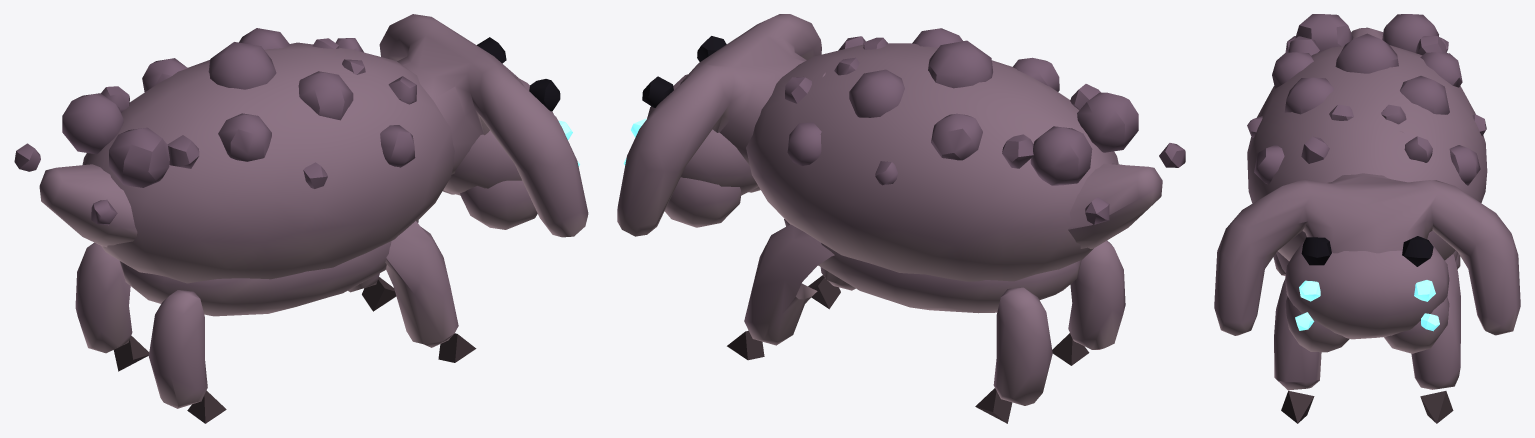
Rendered from squonk.glb.
3 renders of one model, left to right at view 1: azimuth 30°, elevation 25°; view 2: azimuth 150°, elevation 25°; view 3: azimuth 270°, elevation 25°, orthographic. The views are drawn at different scales.
Parts seen in each view (by area): view 1: squonk.001; view 2: squonk.001; view 3: squonk.001.
Part boxes in pixels (x1,y1,x2,y2): squonk.001: (14, 14, 588, 423); squonk.001: (617, 14, 1185, 423); squonk.001: (1214, 14, 1520, 423).
Bounding box in the file's own units: 0.8467 × 0.5331 × 0.4851.
